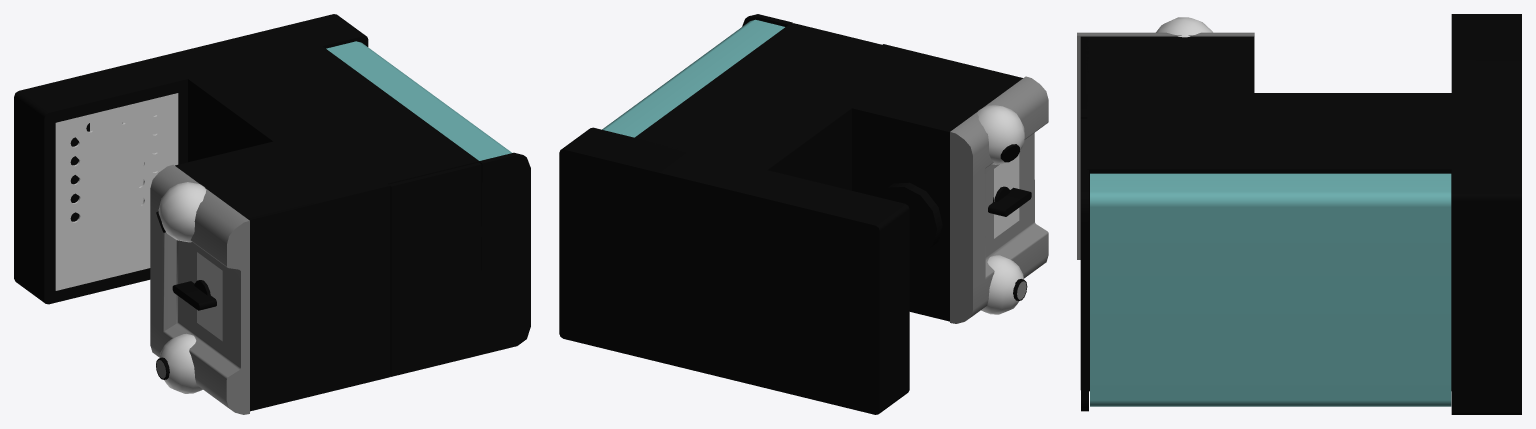
File: corpus.obj
3 views of the same model, side by side, from view 1: azimuth 30°, elevation 25°; view 2: azimuth 150°, elevation 25°; view 3: azimuth 270°, elevation 25° (orthographic). The views are drawn at different scales.
Parts seen in each view (by area): view 1: body.001, lattice.001, pCube4.002, polySurface2.002, water_boil.001, new1_pCylinder13, pPlatonic5, pPlane1.002, pCube9.002; view 2: body.001, pCube4.002, water_boil.001, pCylinder2.002, new1_pCylinder13, pPlatonic5, pPlane1.002, pCube9.002; view 3: water_boil.001, body.001, polySurface2.002, pCube4.002, new1_pCylinder13.
Boxes of the visible parts, <box> form: body.001: <box>14,14,481,411</box>; lattice.001: <box>55,93,178,290</box>; pCube4.002: <box>150,164,249,414</box>; polySurface2.002: <box>479,152,530,354</box>; water_boil.001: <box>326,41,511,160</box>; new1_pCylinder13: <box>156,182,206,242</box>; pPlatonic5: <box>159,333,202,393</box>; pPlane1.002: <box>197,252,222,341</box>; pCube9.002: <box>172,281,216,310</box>; body.001: <box>559,23,1022,414</box>; pCube4.002: <box>950,76,1048,323</box>; water_boil.001: <box>602,19,784,137</box>; pCylinder2.002: <box>877,182,942,255</box>; new1_pCylinder13: <box>977,105,1024,164</box>; pPlatonic5: <box>981,255,1023,314</box>; pPlane1.002: <box>994,153,1019,238</box>; pCube9.002: <box>988,187,1031,216</box>; water_boil.001: <box>1090,173,1451,406</box>; body.001: <box>1080,14,1521,414</box>; polySurface2.002: <box>1081,169,1088,411</box>; pCube4.002: <box>1077,32,1254,259</box>; new1_pCylinder13: <box>1156,17,1212,37</box>.
Bounding box in the file's own units: 0.0413 × 0.0315 × 0.0419.
